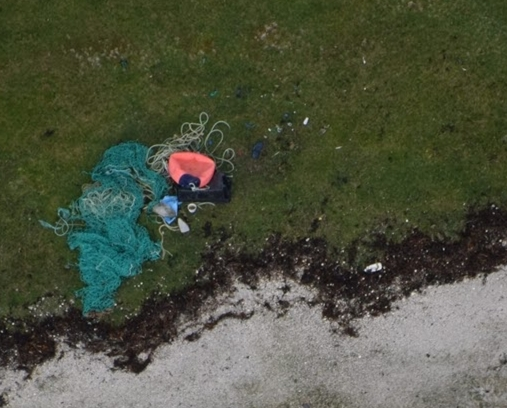net: (41, 138, 173, 319)
scattered_barrel: (245, 106, 345, 166)
together_barrel: (141, 112, 239, 236)
white_in_green: (349, 240, 399, 288)
